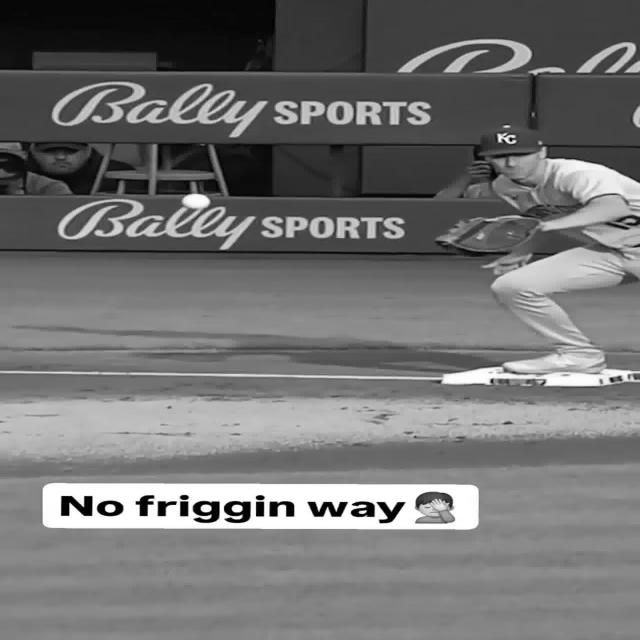base: (440, 366, 640, 388)
baseball: (182, 194, 211, 210)
baseball_glove: (436, 215, 540, 252)
shoe: (502, 352, 607, 374)
